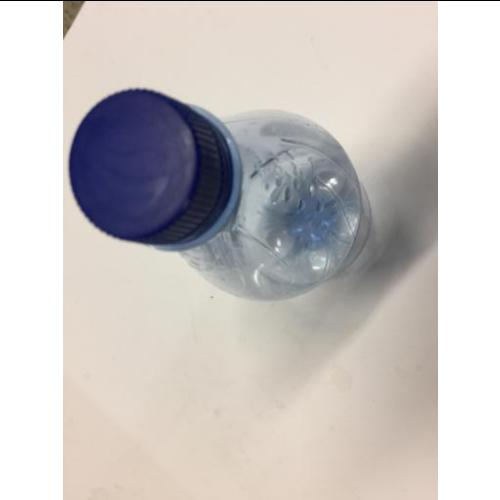plastic: (72, 89, 366, 301)
